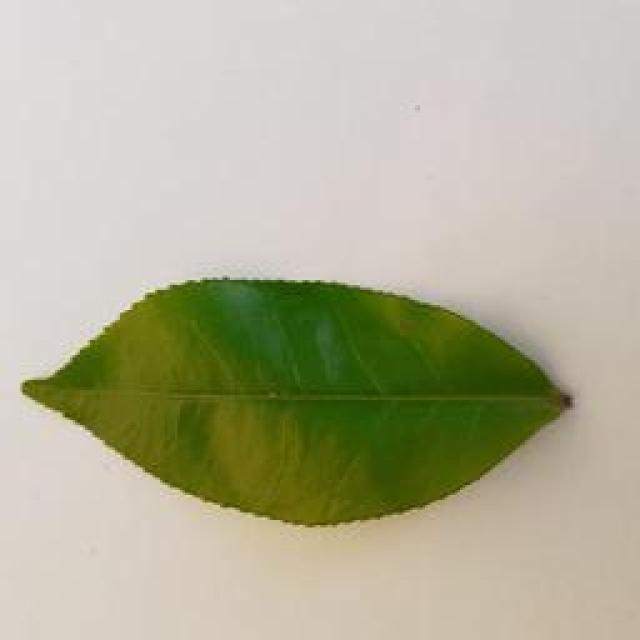Healthy: (0, 264, 640, 545)
